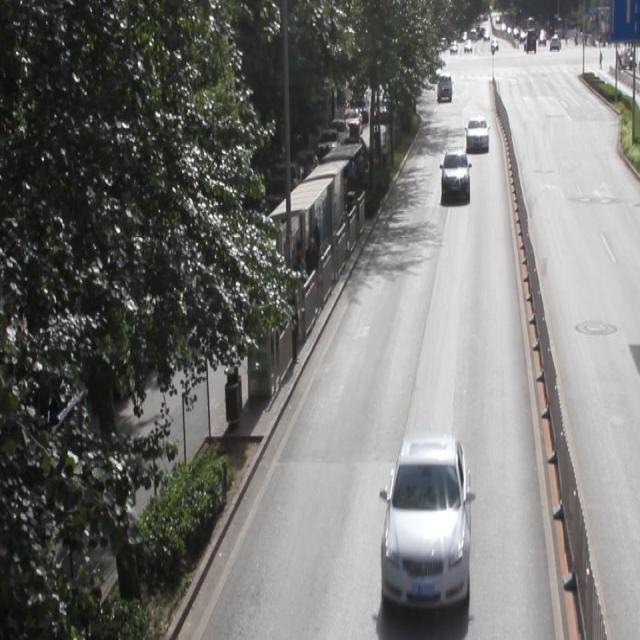car: (381, 431, 469, 608), (439, 146, 468, 198), (465, 115, 488, 150)
